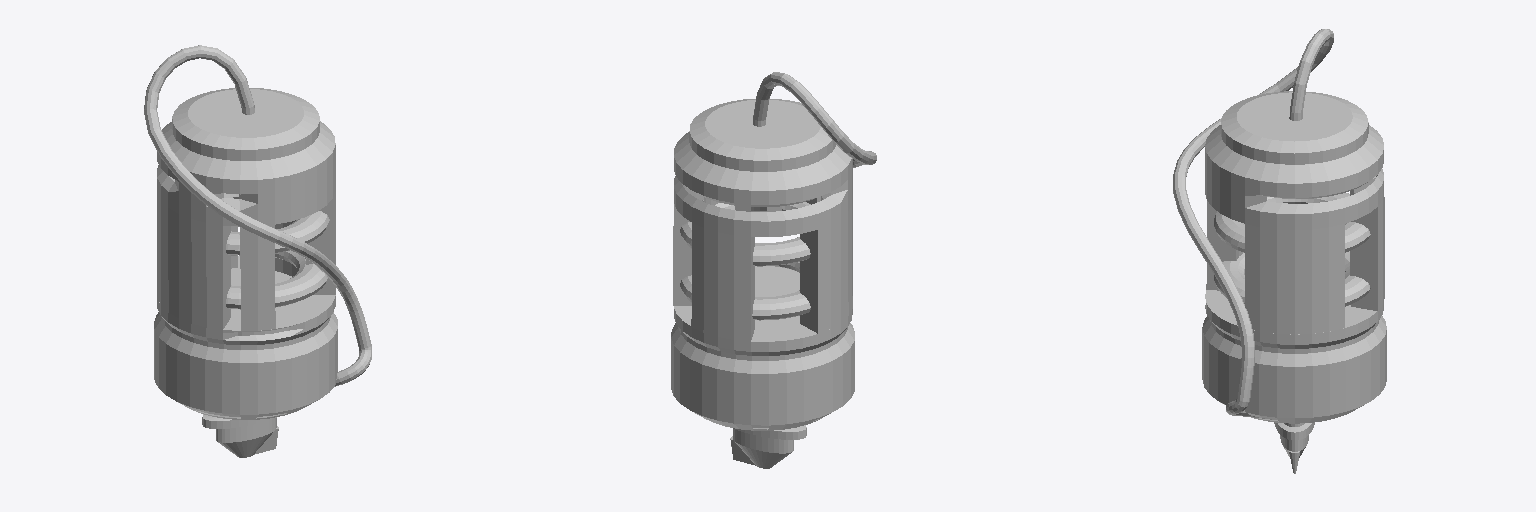
File: PowerBlock2.obj
3 renders of one model, left to right at view 1: azimuth 30°, elevation 25°; view 2: azimuth 150°, elevation 25°; view 3: azimuth 270°, elevation 25°, orthographic.
Visible parts, largest first — view 1: Cylinder.001; view 2: Cylinder.001; view 3: Cylinder.001.
Boxes of the visible parts, x1=… form: Cylinder.001: x1=144, y1=45, x2=371, y2=457; Cylinder.001: x1=671, y1=72, x2=876, y2=468; Cylinder.001: x1=1173, y1=29, x2=1386, y2=473.
Size of the model in its own units: 1.32 by 2.67 by 1.26.